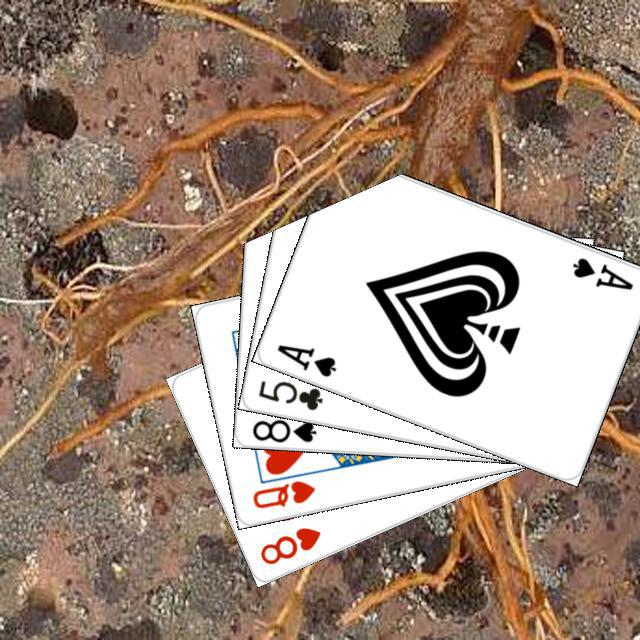5c: (253, 375, 325, 412)
8h: (255, 522, 323, 567)
8s: (248, 414, 318, 444)
As: (567, 252, 635, 292), (272, 339, 338, 379)
Qh: (247, 475, 317, 510)
